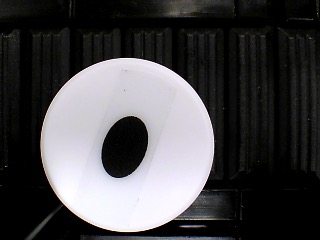BOHOEL: (40, 57, 215, 232)
